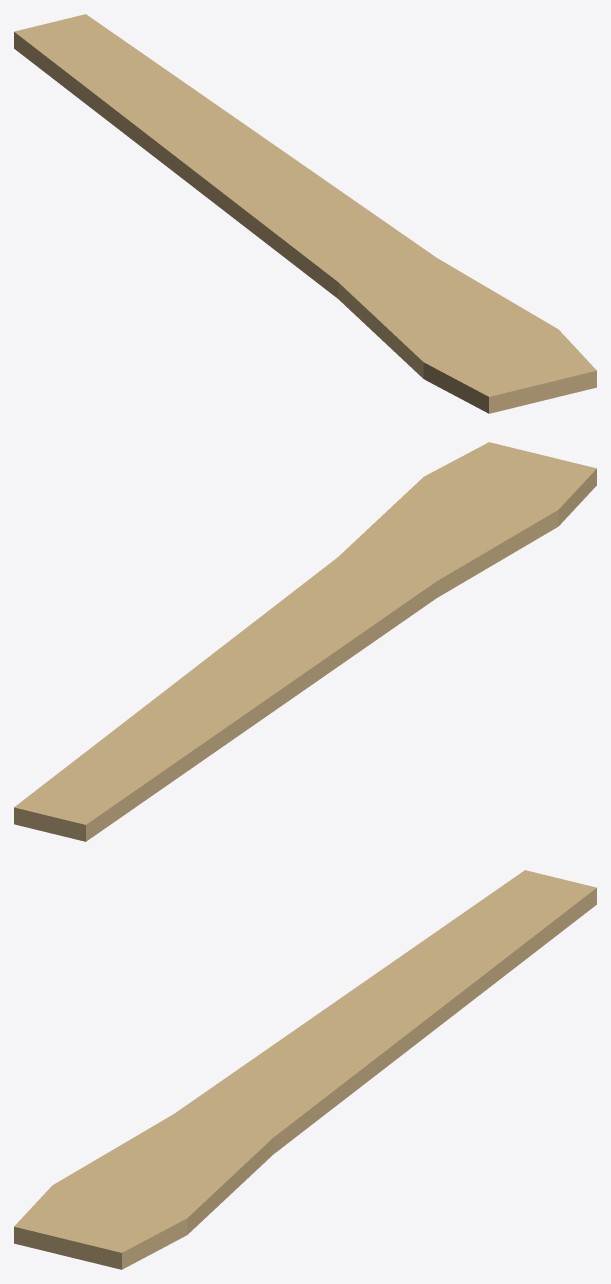
File: paddle.glb
3 renders of one model, top to bottom at view 1: azimuth 30°, elevation 25°; view 2: azimuth 150°, elevation 25°; view 3: azimuth 330°, elevation 25°, orthographic.
Visible parts, largest first — view 1: paddle; view 2: paddle; view 3: paddle.
Part boxes in pixels (<box>): paddle: <box>14,14,596,413</box>; paddle: <box>14,442,596,841</box>; paddle: <box>14,870,596,1269</box>.
Bounding box in the file's own units: 0.015 × 0.0018 × 0.095.
